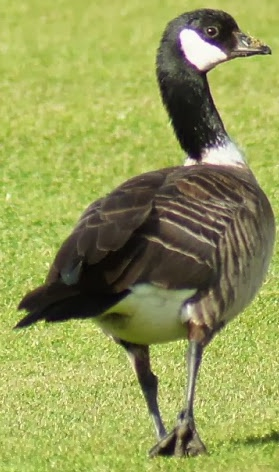goose: (13, 5, 279, 457)
